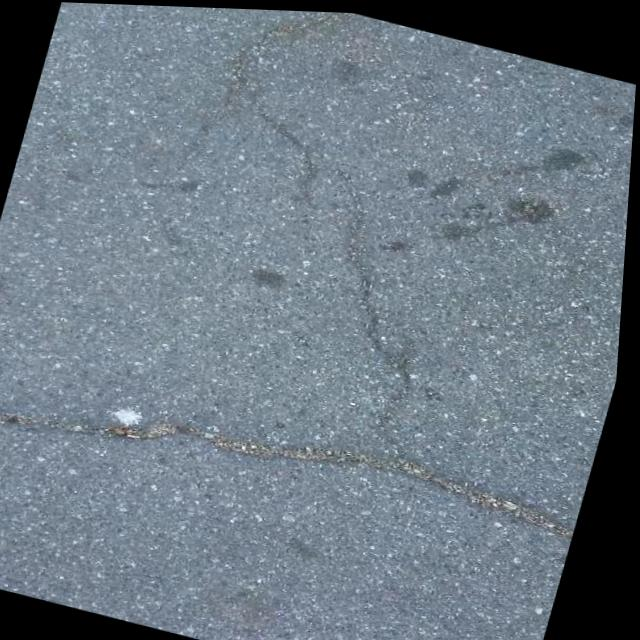Crack: (0, 330, 600, 573)
